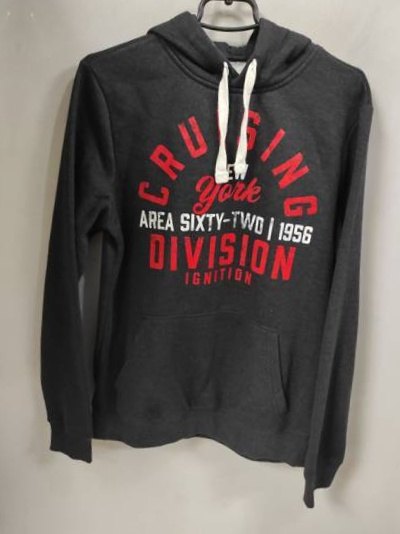Hoodie: (12, 0, 400, 501), (0, 0, 1, 477)
